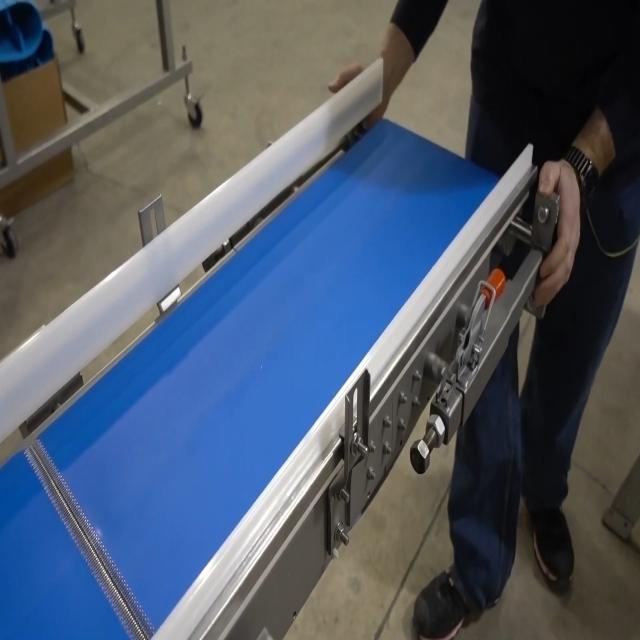Convoyeur: (1, 90, 574, 640)
